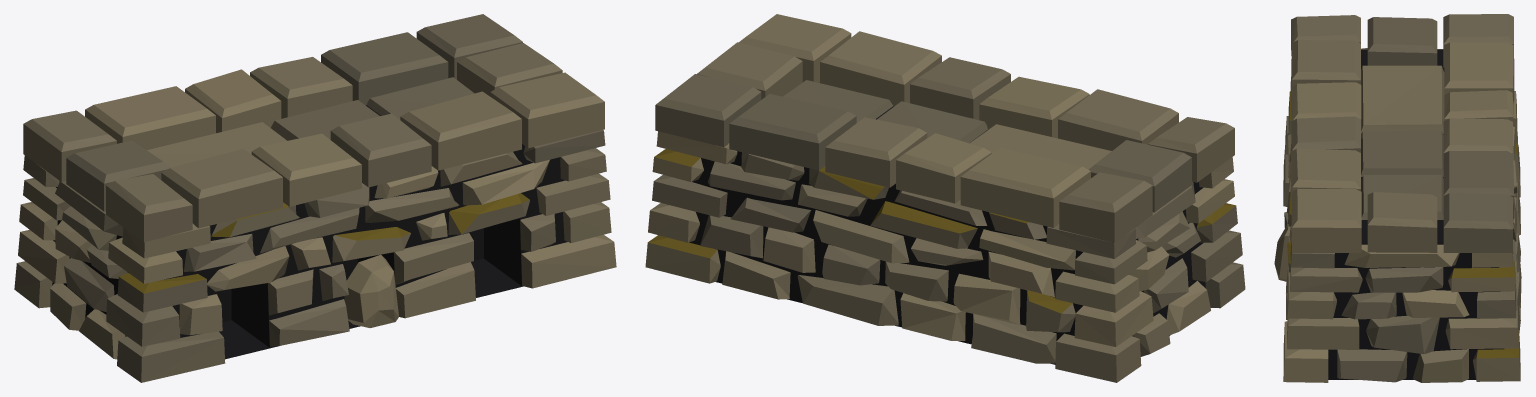
Rendered from hare-moa-chicken-house-fb5ed7.glb.
3 views of the same model, side by side, from view 1: azimuth 30°, elevation 25°; view 2: azimuth 150°, elevation 25°; view 3: azimuth 270°, elevation 25° (orthographic). The views are drawn at different scales.
Parts seen in each view (by area): view 1: walls, door-stone; view 2: walls; view 3: walls, door-stone.
Part boxes in pixels (bbox=[...]): walls: bbox=[14, 14, 616, 382]; door-stone: bbox=[344, 254, 398, 327]; walls: bbox=[645, 14, 1245, 382]; walls: bbox=[1283, 14, 1521, 382]; door-stone: bbox=[1274, 224, 1290, 281].
Size of the model in its own units: 3.96 by 1.41 by 1.93.
